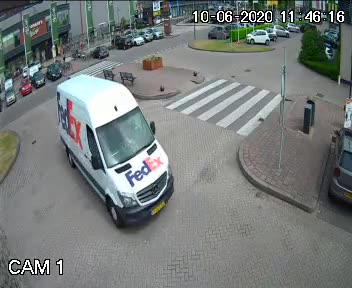car: (40, 75, 174, 223)
